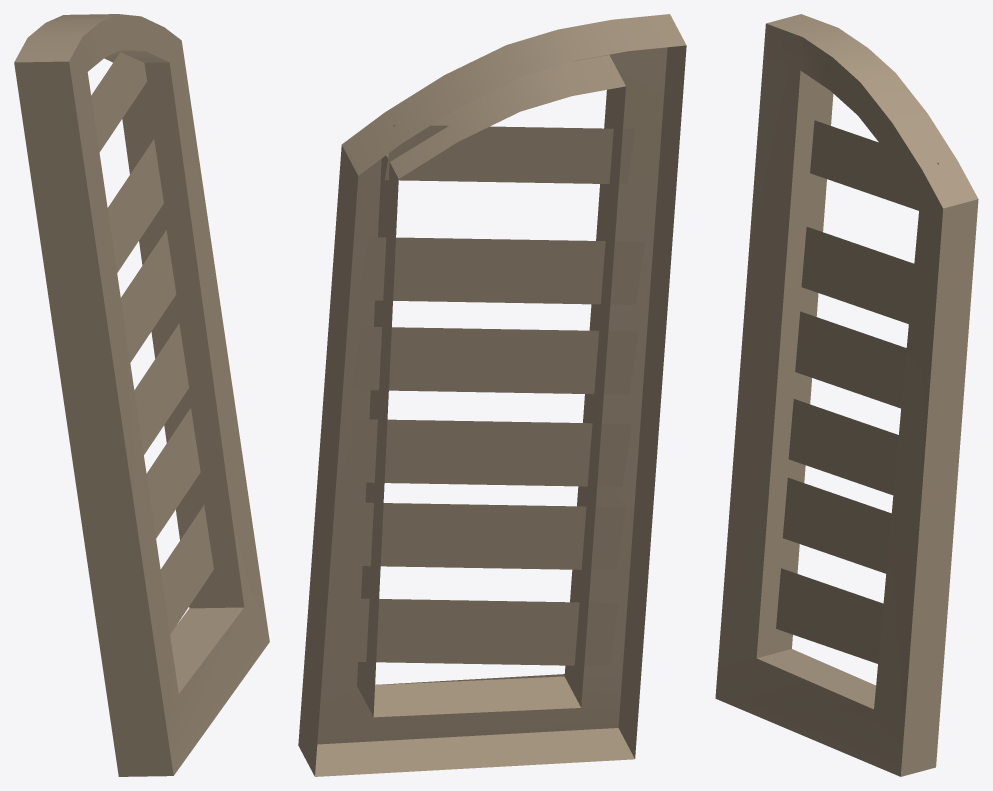
The model's file is shutter.fbx.
3 views of the same model, side by side, from view 1: azimuth 30°, elevation 25°; view 2: azimuth 150°, elevation 25°; view 3: azimuth 270°, elevation 25° (orthographic). The views are drawn at different scales.
Parts seen in each view (by area): view 1: shutter1; view 2: shutter1; view 3: shutter1.
Boxes of the visible parts, x1,y1,x2,y2 form: shutter1: (14,14,269,776); shutter1: (298,14,686,776); shutter1: (715,14,978,776).
Size of the model in its own units: 0.00635 by 0.0141 by 0.00517.
